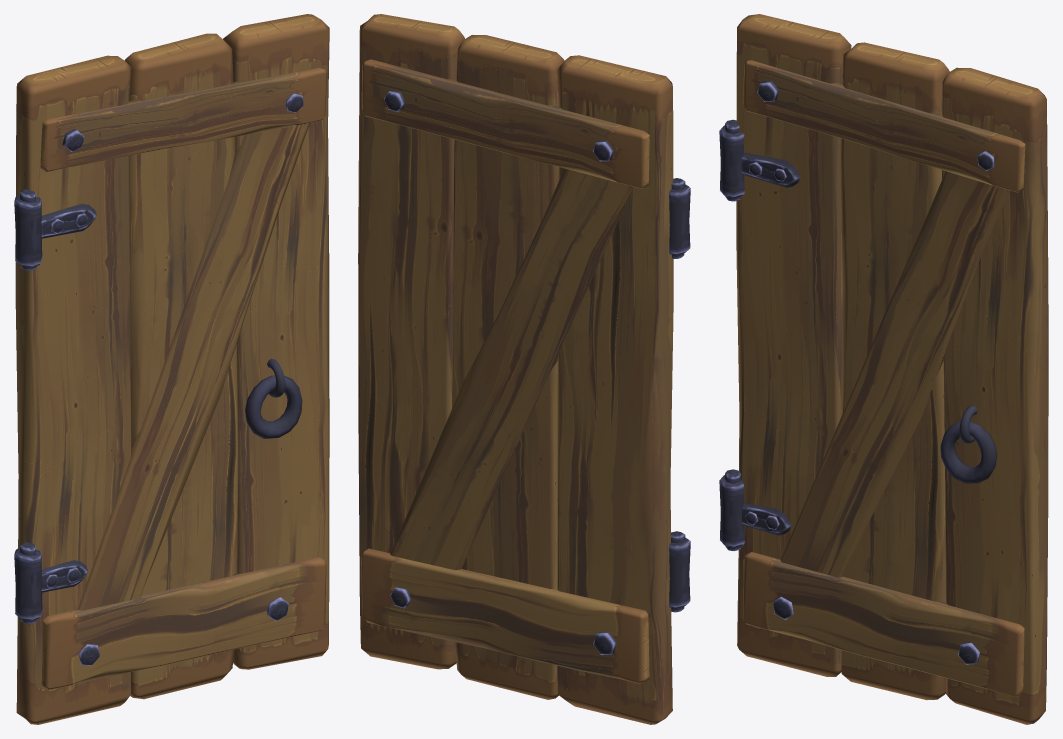
File: SM_MOD_window_shutter_town_01.fbx
3 renders of one model, left to right at view 1: azimuth 30°, elevation 25°; view 2: azimuth 150°, elevation 25°; view 3: azimuth 330°, elevation 25°, orthographic.
Visible parts, largest first — view 1: SM_MOD_window_shutter_town_01_LOD0; view 2: SM_MOD_window_shutter_town_01_LOD0; view 3: SM_MOD_window_shutter_town_01_LOD0.
Boxes of the visible parts, x1=… form: SM_MOD_window_shutter_town_01_LOD0: x1=14, y1=14, x2=329, y2=724; SM_MOD_window_shutter_town_01_LOD0: x1=358, y1=14, x2=690, y2=724; SM_MOD_window_shutter_town_01_LOD0: x1=719, y1=14, x2=1048, y2=724.
Size of what is drawn, in the model's own units: 56.54 by 109 by 11.73.
